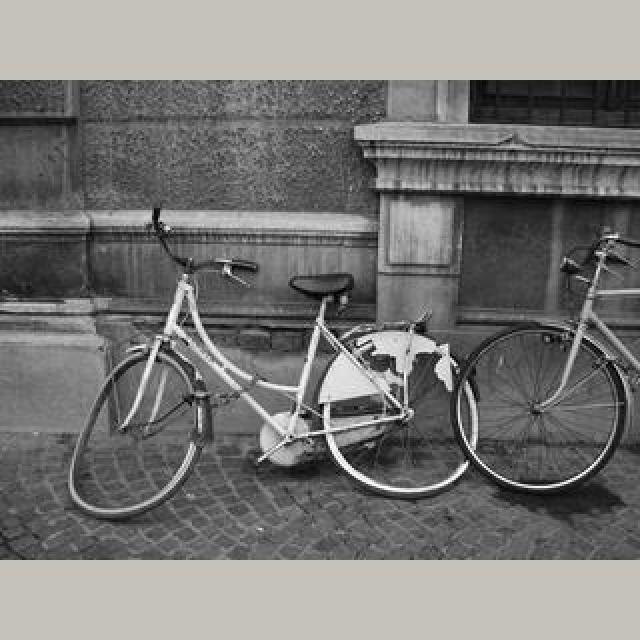Person: (66, 232, 460, 512), (443, 227, 639, 497)
